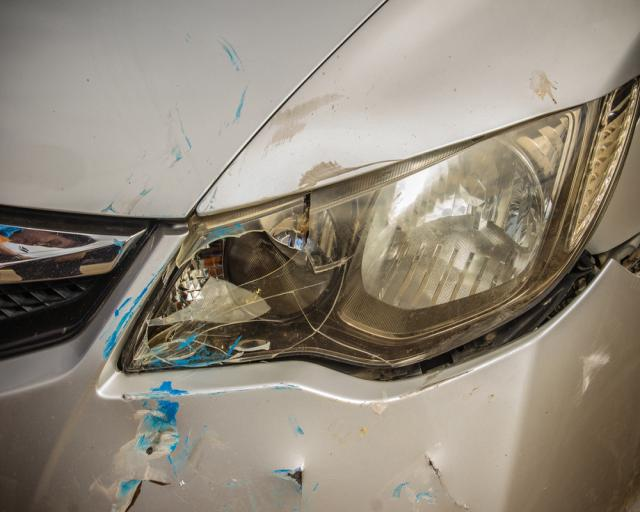crack: (123, 478, 175, 512)
lamp broken: (119, 111, 578, 371)
scratch: (93, 379, 198, 512), (577, 338, 614, 402)
